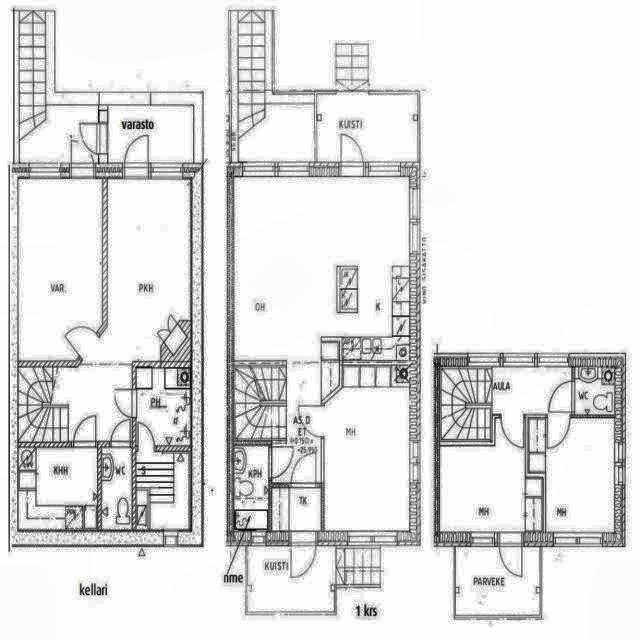room: (234, 177, 410, 484), (18, 178, 190, 442), (18, 179, 102, 360), (324, 366, 409, 531), (440, 418, 543, 531), (528, 418, 614, 532), (18, 448, 97, 530), (107, 105, 195, 163), (136, 368, 190, 445), (136, 452, 189, 529), (234, 446, 269, 531), (102, 448, 132, 529), (272, 488, 321, 531), (575, 367, 614, 414)
